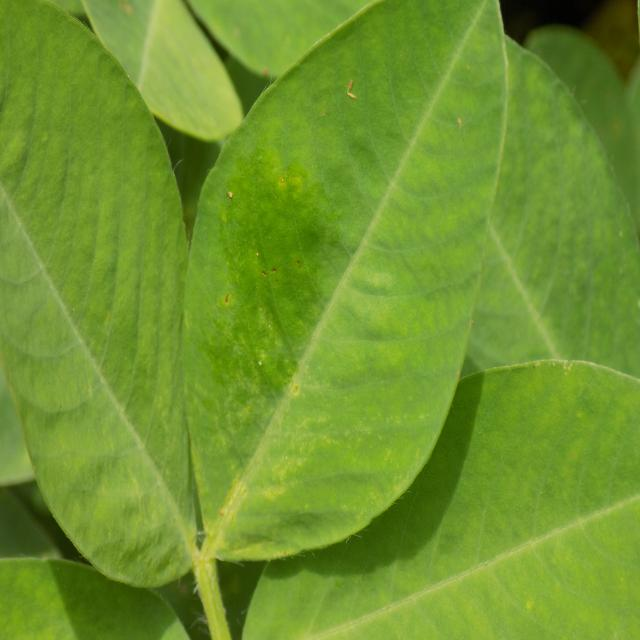Ground nut_healthy: (184, 0, 511, 565)
